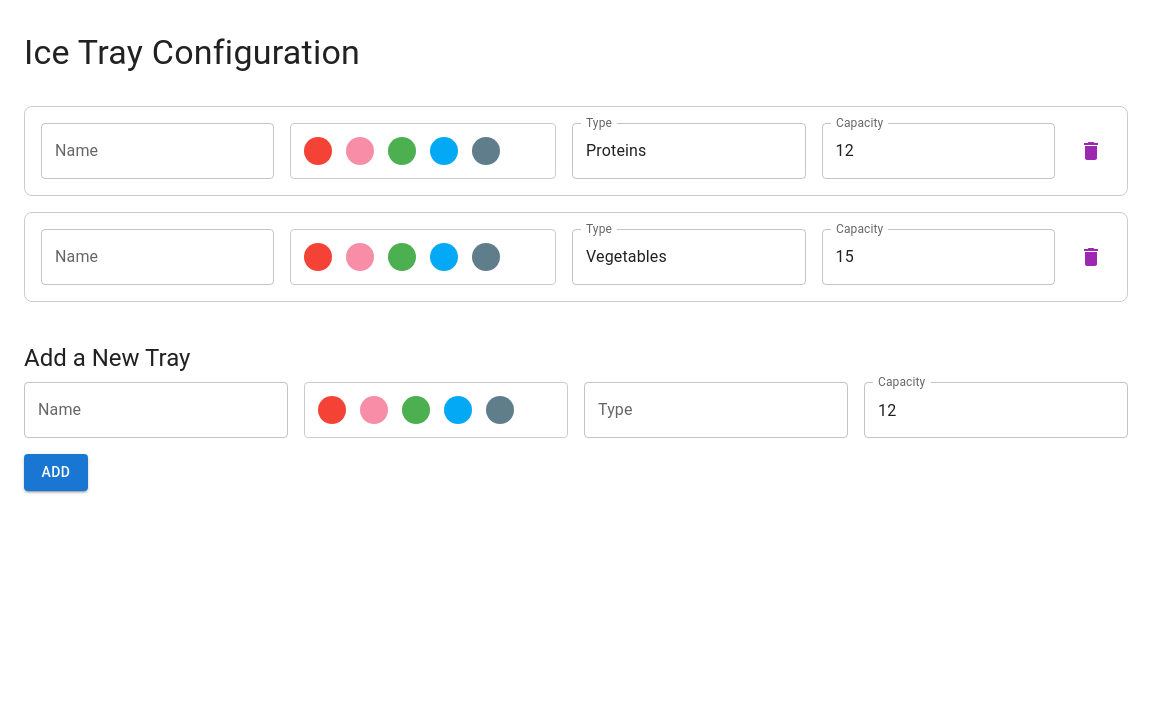
Test: BacConfig Modal › opens modal when attempting to delete a bac type with food items
Click the 1st button named "delete".
click(1091, 151)  # box [1071, 131, 1111, 171]
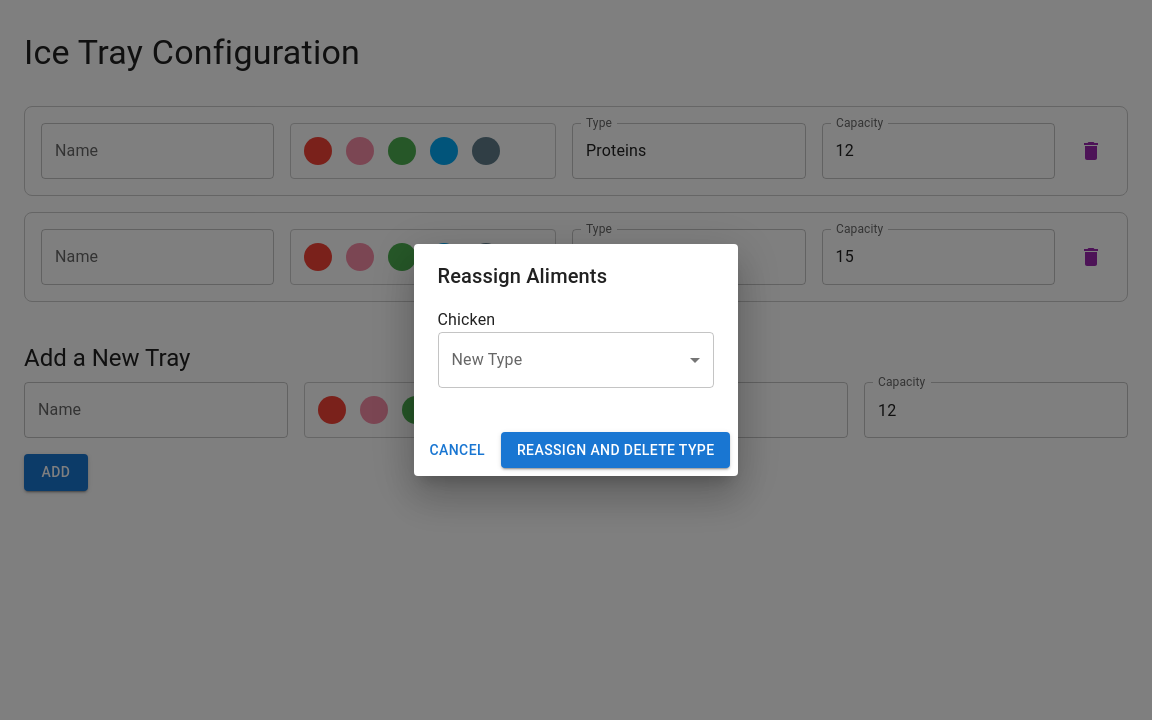
Check: the heading "Reassign Aliments" is shown, box [438, 264, 607, 288]
